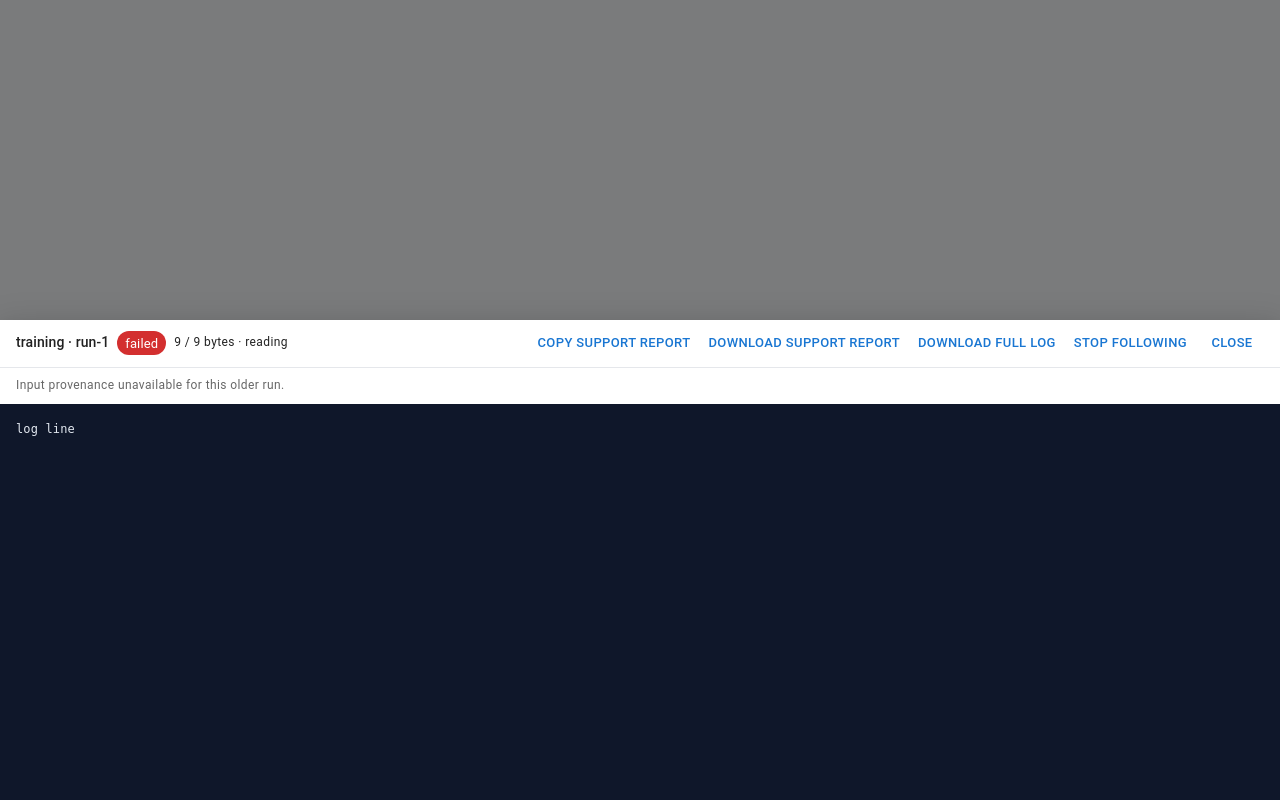
Scenario: the support report a colleague sends (A14-03) › reports a server failure as a failure, never as an empty report
Step 1. Click the button with test id "copy-support-report" → coordinates (614, 343), box [532,328,696,359]
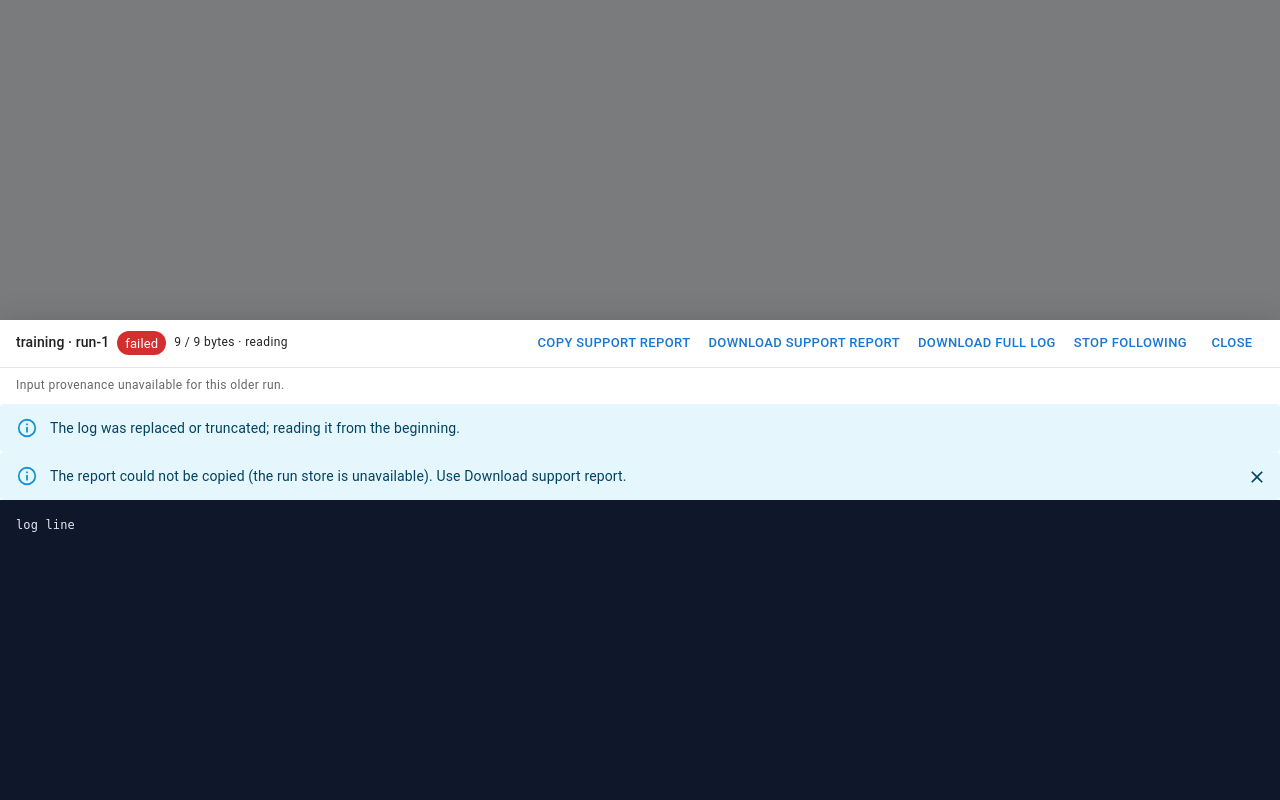
Expected: the message with test id "support-notice" shows "run store is unavailable", [50,468,627,484]
